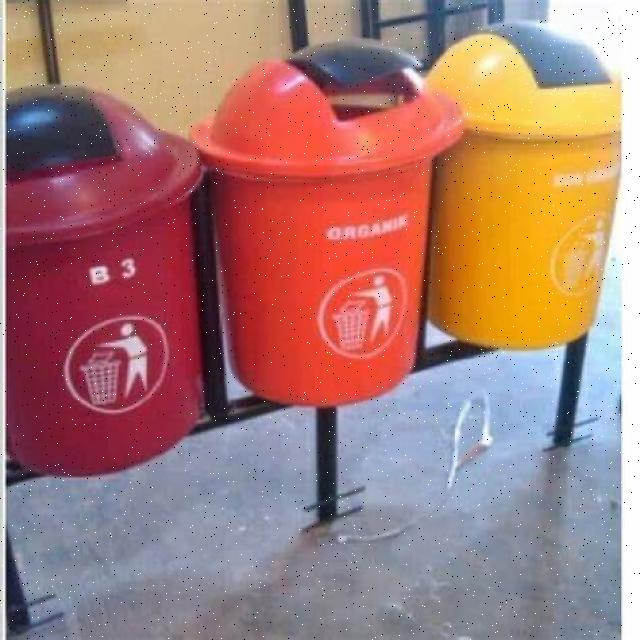garbage container: (193, 56, 462, 414), (2, 79, 216, 500), (421, 26, 640, 367)
